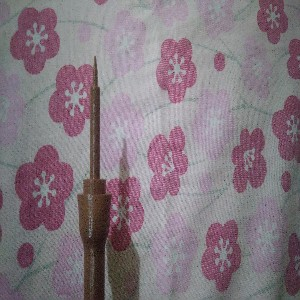solder: (75, 55, 114, 300)
